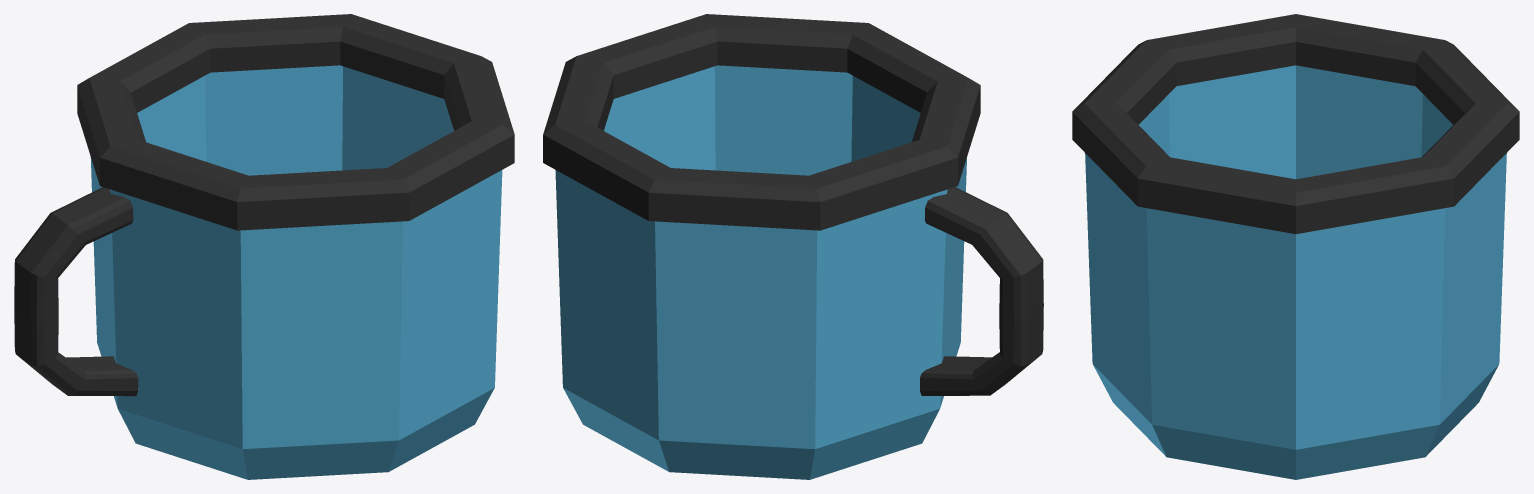
The model's file is Cup.glb.
3 views of the same model, side by side, from view 1: azimuth 30°, elevation 25°; view 2: azimuth 150°, elevation 25°; view 3: azimuth 270°, elevation 25° (orthographic).
Visible parts, largest first — view 1: Cup; view 2: Cup; view 3: Cup.
Boxes of the visible parts, left/top/right/bottom form: Cup: left=14, top=14, right=514, bottom=479; Cup: left=543, top=14, right=1043, bottom=479; Cup: left=1072, top=14, right=1519, bottom=479.
Size of the model in its own units: 0.5996 by 0.3898 by 0.5011.
1 material, 1 textured.
